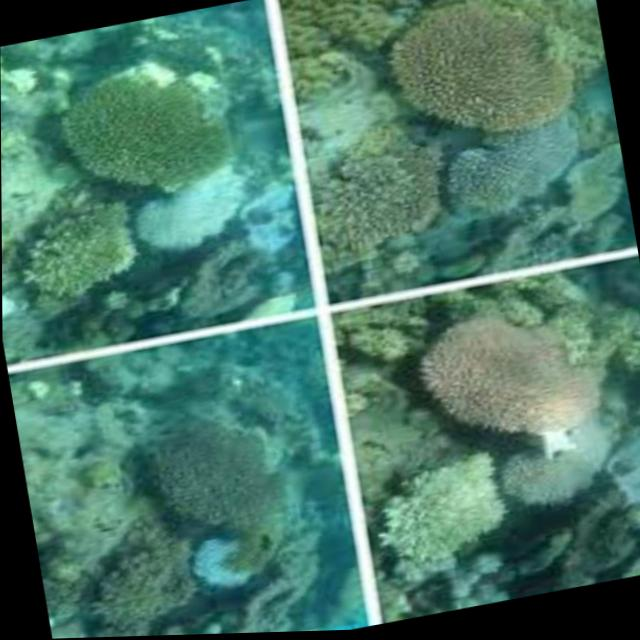Bleached Coral: (135, 191, 296, 287), (179, 531, 273, 611)
Dead Coral: (36, 40, 233, 221), (94, 387, 294, 540), (507, 487, 632, 600), (66, 549, 174, 639)
Healthy Coral: (294, 0, 604, 286), (402, 294, 597, 449), (380, 464, 501, 592)
